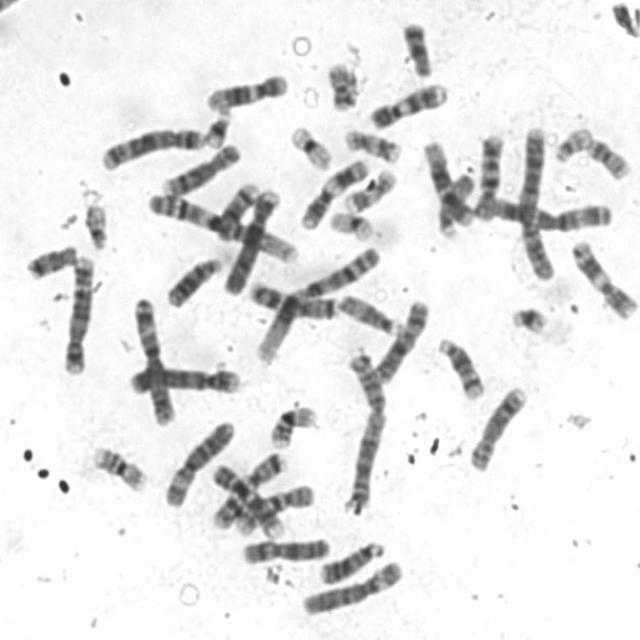A1: (252, 241, 385, 364), (142, 186, 301, 266)
A2: (339, 343, 390, 516), (512, 121, 556, 281)
A3: (129, 291, 178, 426), (485, 193, 614, 233)
B4: (219, 183, 283, 296), (124, 360, 244, 397)
B5: (57, 246, 98, 378), (96, 122, 204, 172)
C10: (231, 480, 317, 537), (470, 127, 506, 222)
C11: (566, 233, 639, 322), (296, 154, 372, 232)
C12: (416, 134, 476, 228), (201, 66, 293, 112)
C6: (160, 415, 239, 510), (298, 554, 406, 618)
C7: (208, 446, 290, 534), (244, 277, 342, 322)
C8: (466, 380, 530, 473), (158, 137, 244, 197)
C9: (208, 456, 288, 540), (363, 77, 450, 131)
D13: (162, 252, 227, 311), (314, 535, 386, 585)
D14: (433, 333, 487, 400), (211, 176, 260, 243)
D15: (335, 290, 403, 338), (434, 168, 477, 241)
E16: (88, 441, 150, 493), (265, 401, 319, 451)
E17: (339, 164, 400, 215), (338, 123, 403, 165)
E18: (21, 237, 81, 280), (398, 16, 435, 78)
F19: (284, 119, 335, 171), (325, 206, 376, 242)
F20: (582, 131, 634, 182), (322, 58, 361, 112)
G21: (505, 300, 551, 336), (200, 104, 235, 150)
G22: (549, 120, 596, 165), (80, 196, 112, 251)
X: (368, 294, 429, 386), (238, 532, 334, 565)
